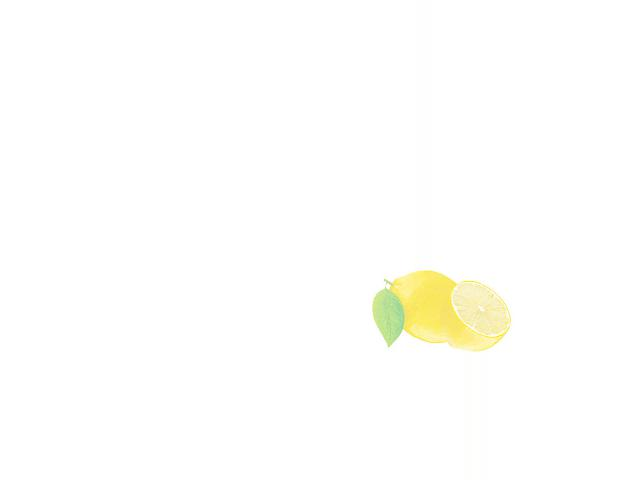lemon: (382, 269, 458, 345)
